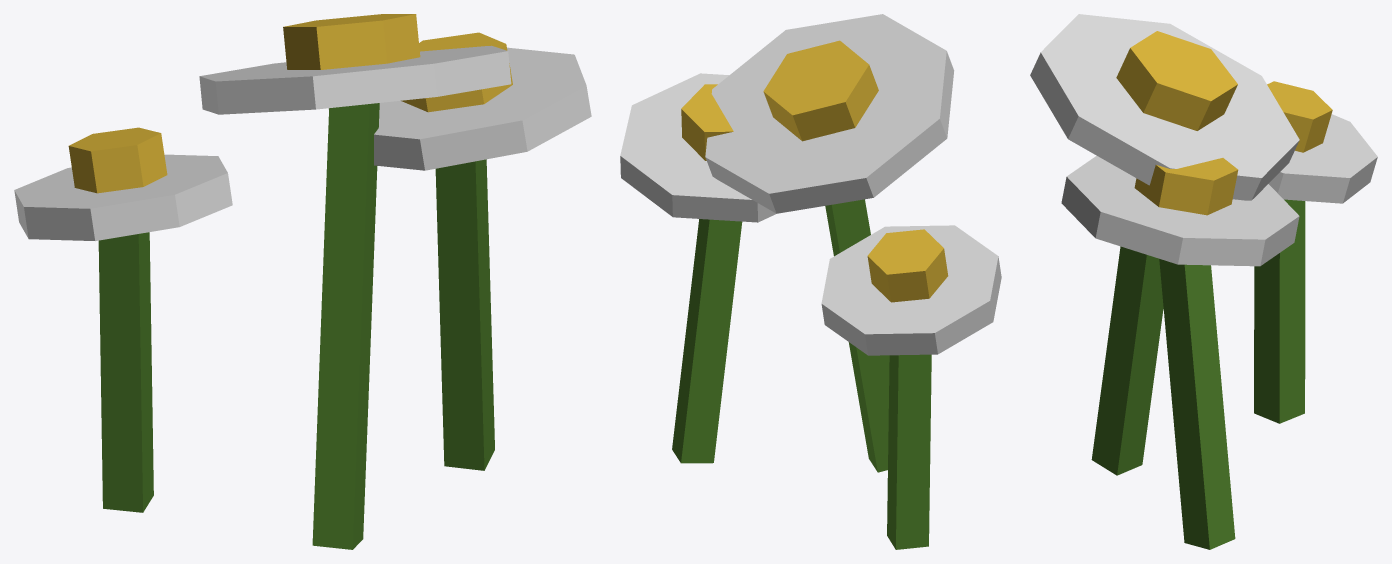
File: p_flower_1.glb
3 renders of one model, left to right at view 1: azimuth 30°, elevation 25°; view 2: azimuth 150°, elevation 25°; view 3: azimuth 270°, elevation 25°, orthographic. The views are drawn at different scales.
Visible parts, largest first — view 1: body; view 2: body; view 3: body.
Boxes of the visible parts, x1,y1,x2,y2 form: body: (14, 14, 591, 549); body: (620, 14, 1001, 549); body: (1030, 14, 1377, 549).
Bounding box in the file's own units: 0.4274 × 0.4179 × 0.2996.
